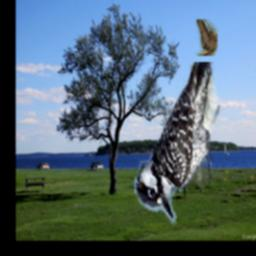Cuckoo: (197, 19, 219, 56)
Woodpecker: (135, 62, 234, 225)
